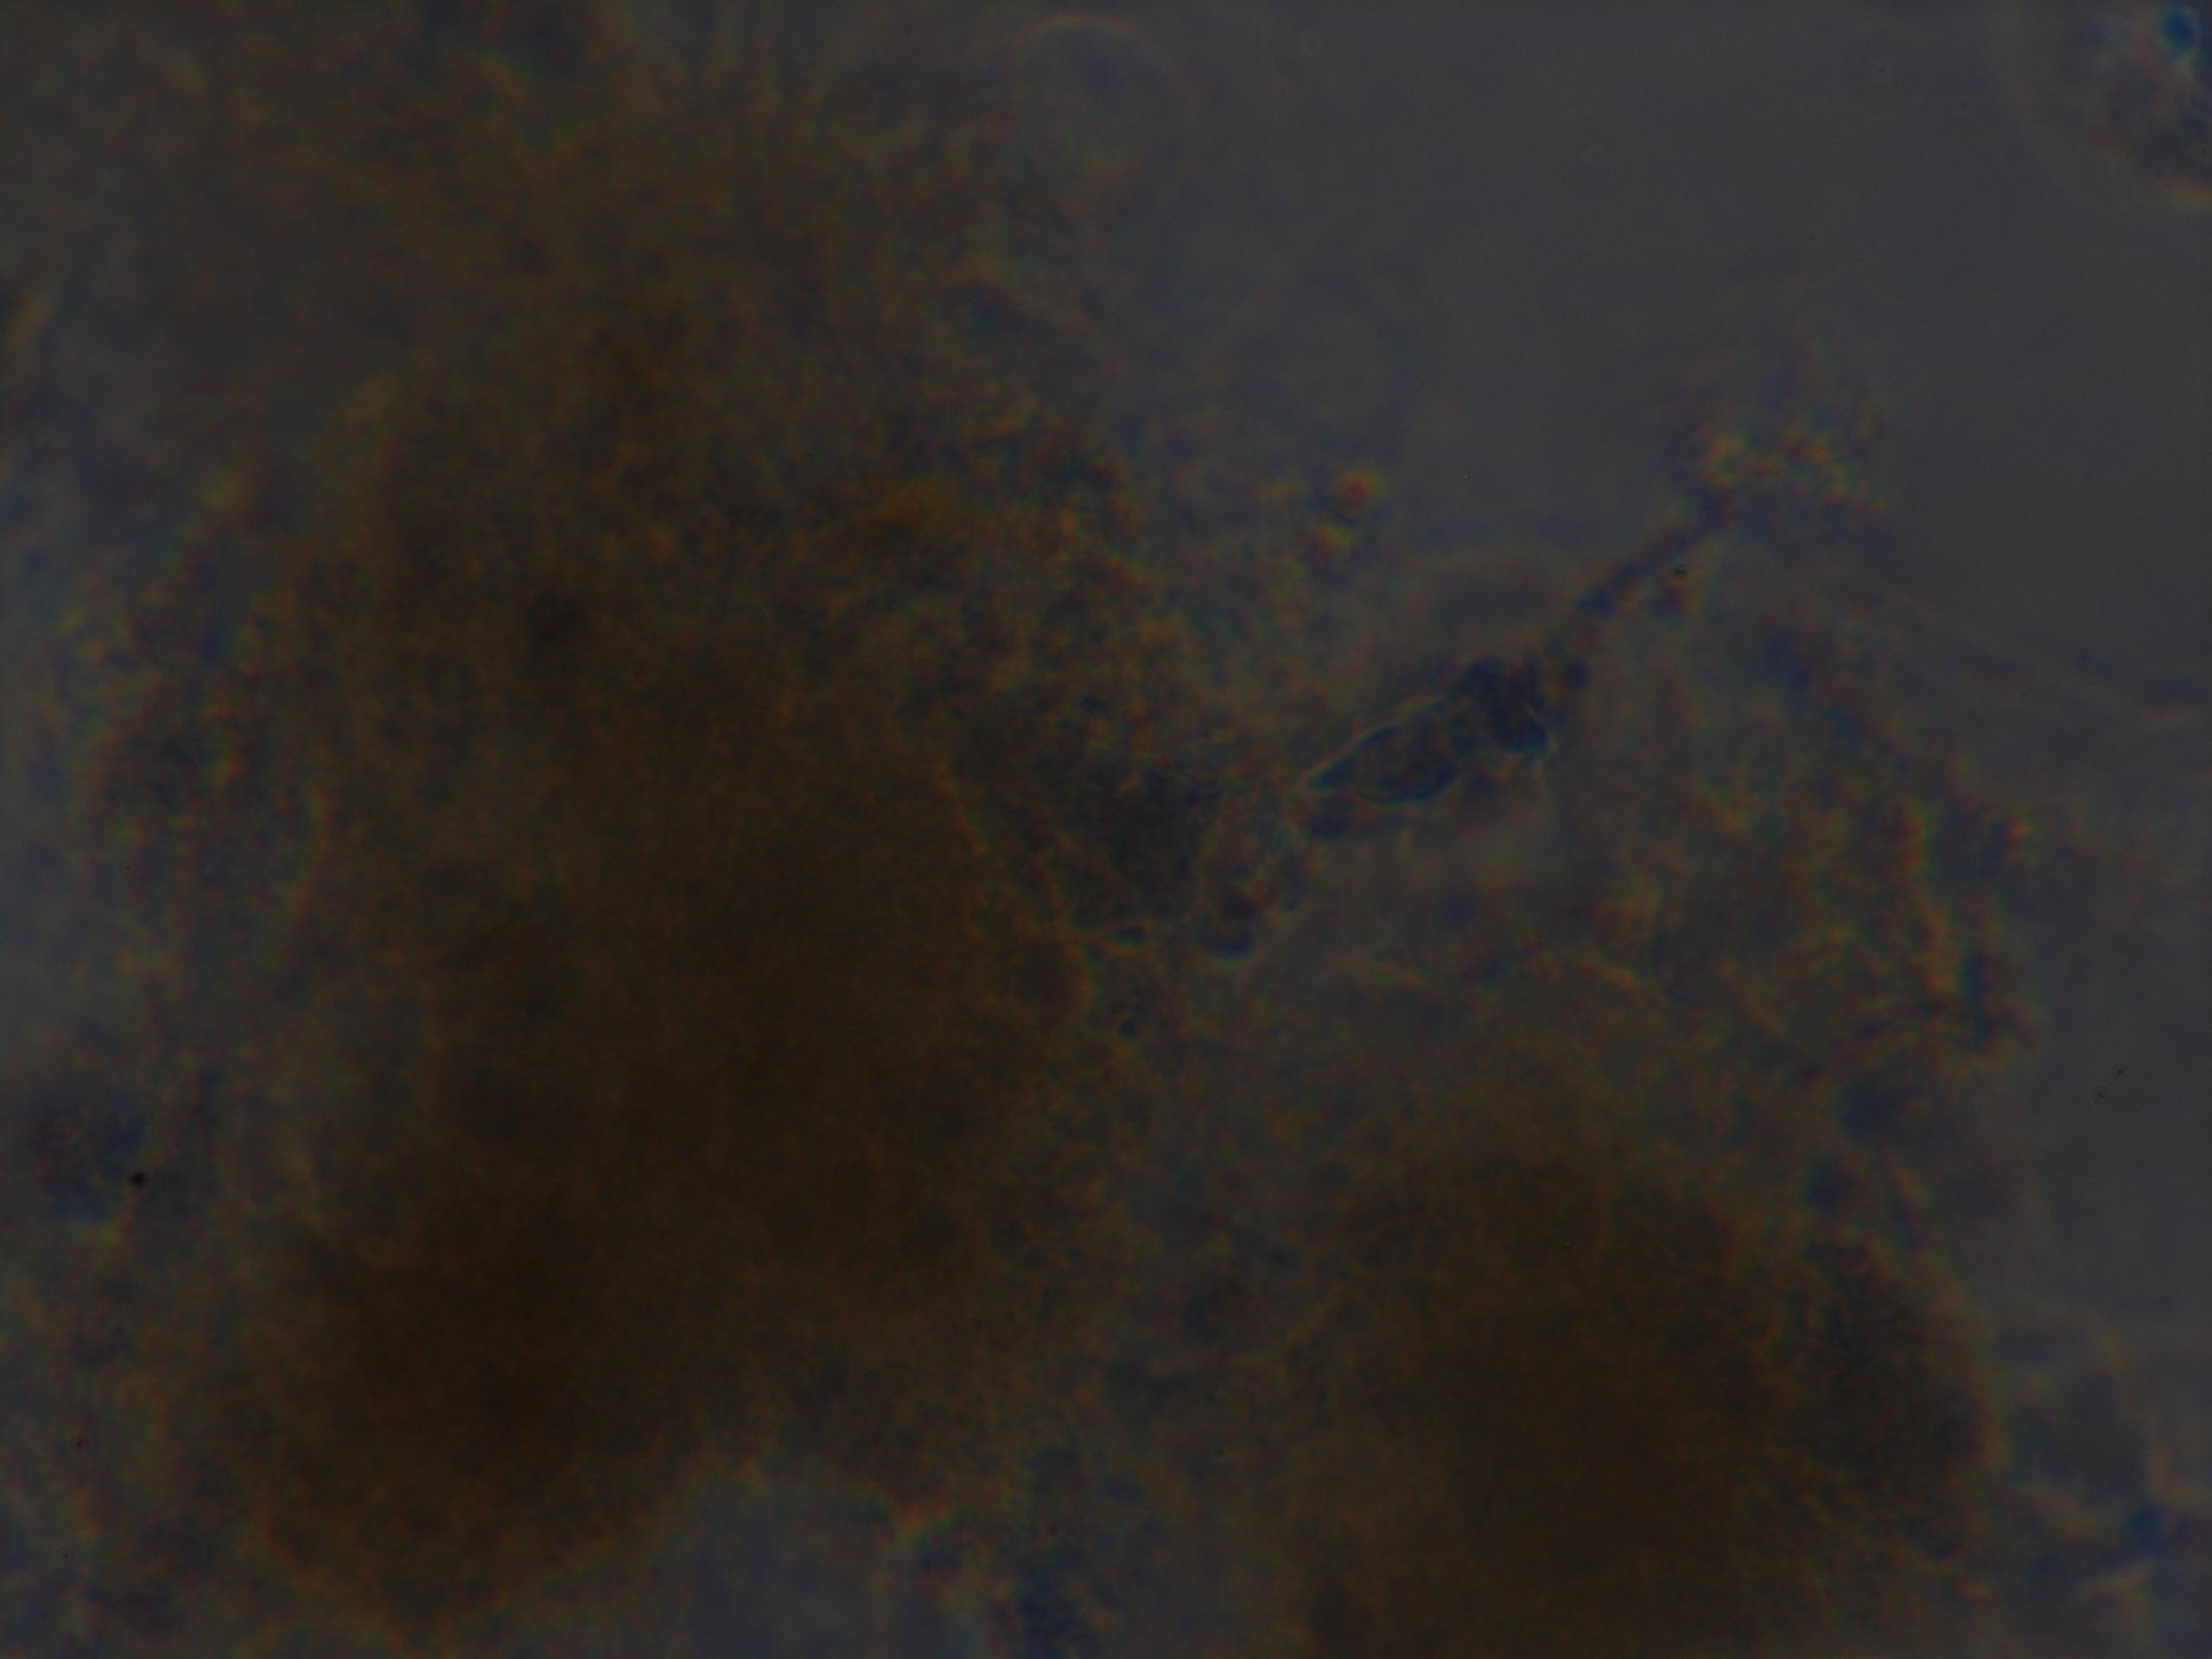spherical_floc: (108, 138, 1157, 1659), (1226, 1080, 1968, 1659)
